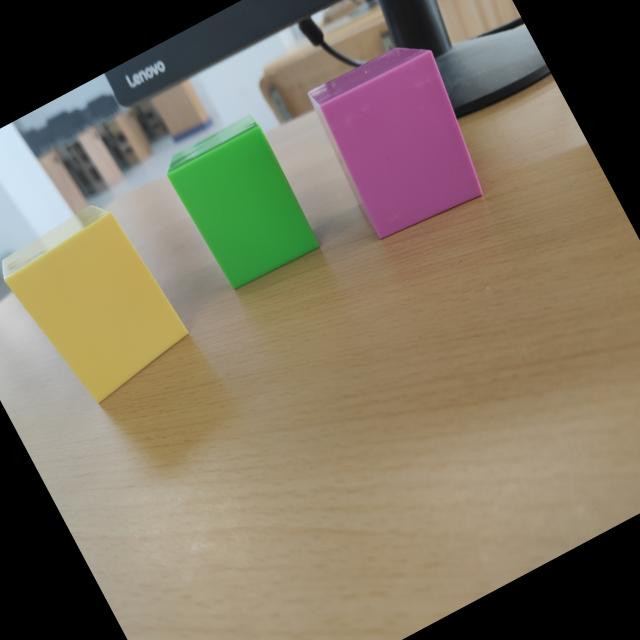green: (167, 116, 321, 291)
pink: (310, 47, 485, 240)
yellow: (1, 208, 186, 399)
